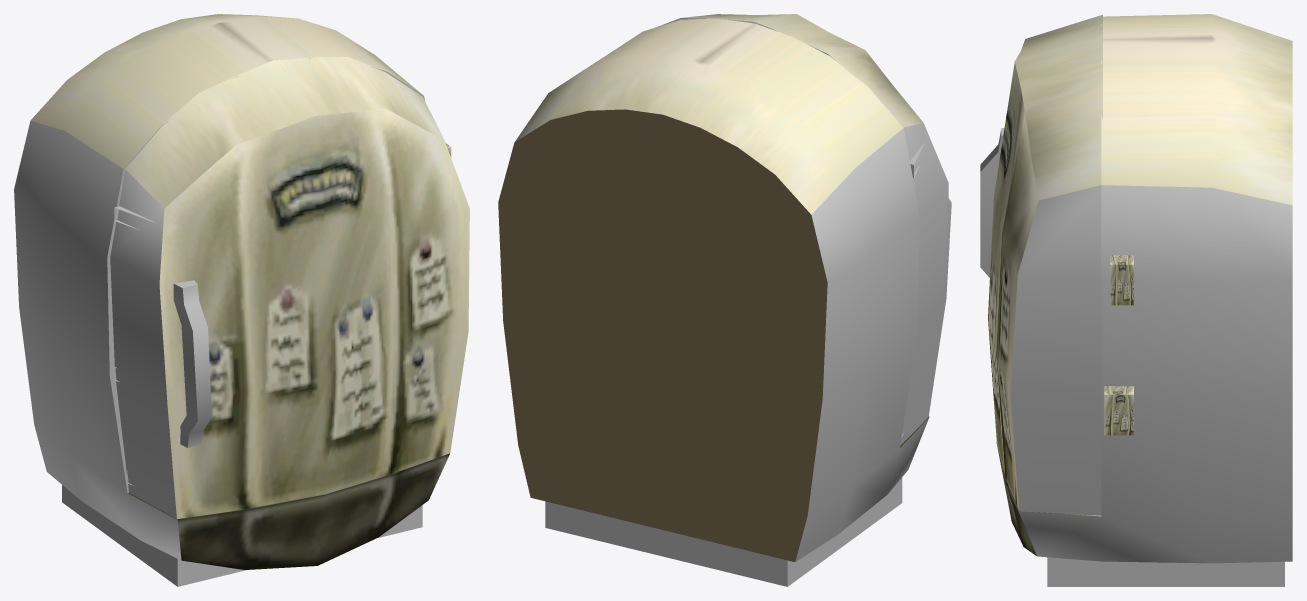
Rendered from kitchen_icebox.obj.
The picture shows the model from 3 angles, left to right: view 1: azimuth 30°, elevation 25°; view 2: azimuth 150°, elevation 25°; view 3: azimuth 270°, elevation 25°; orthographic projection. The views are drawn at different scales.
Visible parts, largest first — view 1: part6_texture3, part2_texture2.004, part3_texture3.002, part2_texture2.005, part3_texture1; view 2: part0_texture0.007, part2_texture2.004, part3_texture3.002, part2_texture2.005, part6_texture3; view 3: part2_texture2.004, part3_texture3.002, part2_texture2.005, part6_texture3, part3_texture1.
Boxes of the visible parts, bbox=[...] form: part6_texture3: bbox=[125, 57, 469, 519]; part2_texture2.004: bbox=[14, 58, 424, 586]; part3_texture3.002: bbox=[31, 14, 451, 569]; part2_texture2.005: bbox=[110, 169, 176, 518]; part3_texture1: bbox=[114, 206, 211, 485]; part0_texture0.007: bbox=[498, 109, 827, 561]; part2_texture2.004: bbox=[545, 128, 929, 586]; part3_texture3.002: bbox=[515, 18, 929, 447]; part2_texture2.005: bbox=[655, 18, 948, 445]; part6_texture3: bbox=[682, 14, 923, 127]; part2_texture2.004: bbox=[1019, 185, 1292, 586]; part3_texture3.002: bbox=[996, 14, 1292, 555]; part2_texture2.005: bbox=[1010, 185, 1101, 515]; part6_texture3: bbox=[988, 14, 1102, 510]; part3_texture1: bbox=[980, 127, 1004, 277].
Size of the model in its own units: 1.09 by 1.41 by 0.8159.
